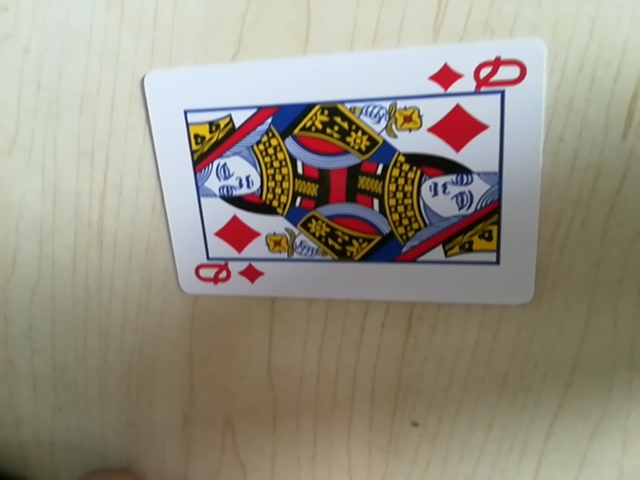fk q: (428, 52, 531, 96), (191, 258, 263, 295)
